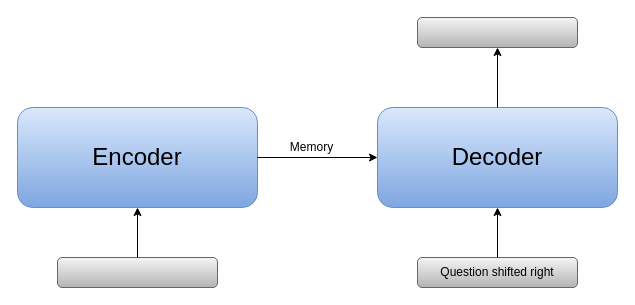
This 635x305 diagram has some shape labels left out. Each missing label, with the centre of its shape:
"Context + answer indices" belongs at (137,272).
"Question" belongs at (497,32).
